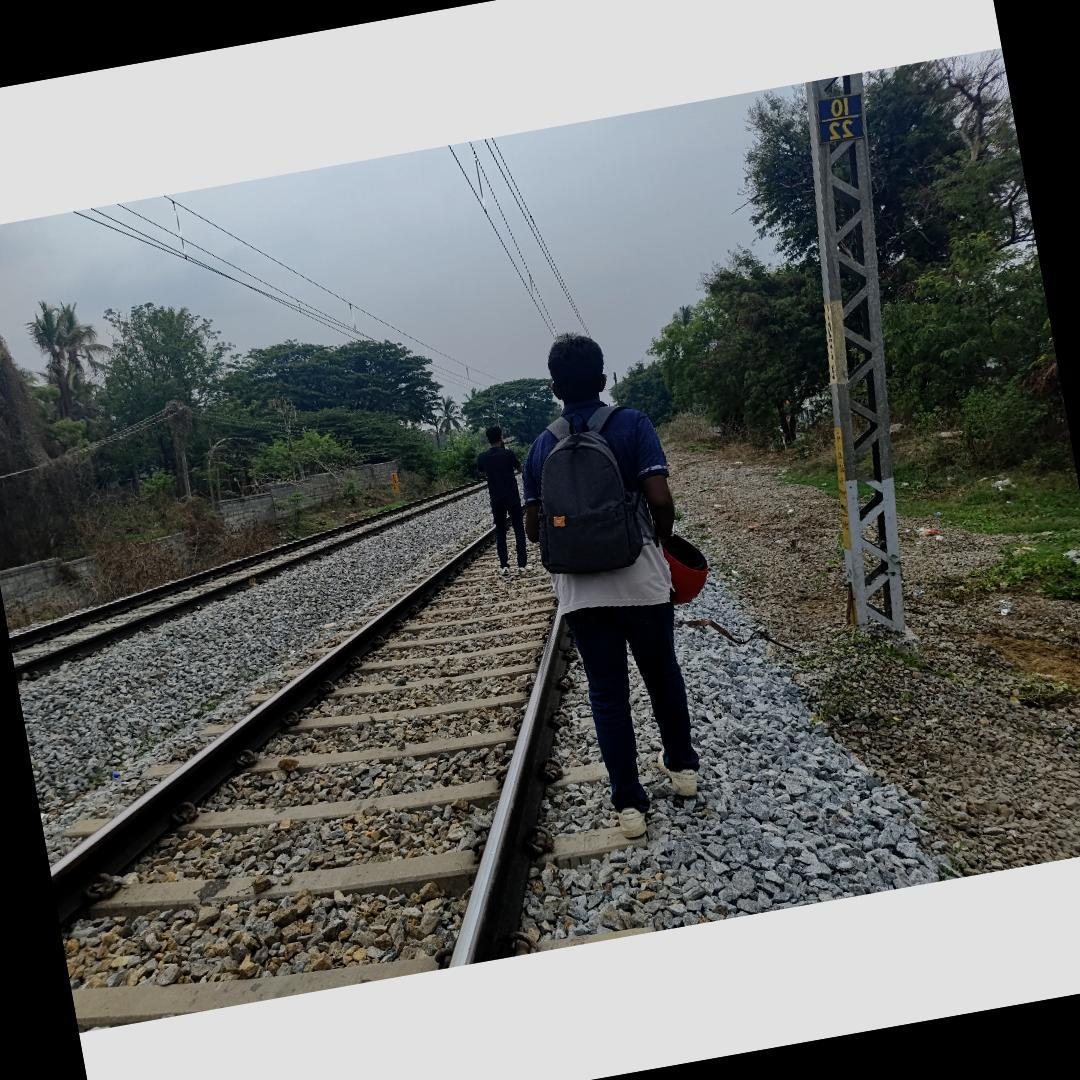standing: (506, 321, 718, 846), (465, 419, 529, 575)
track: (45, 521, 574, 1029)
